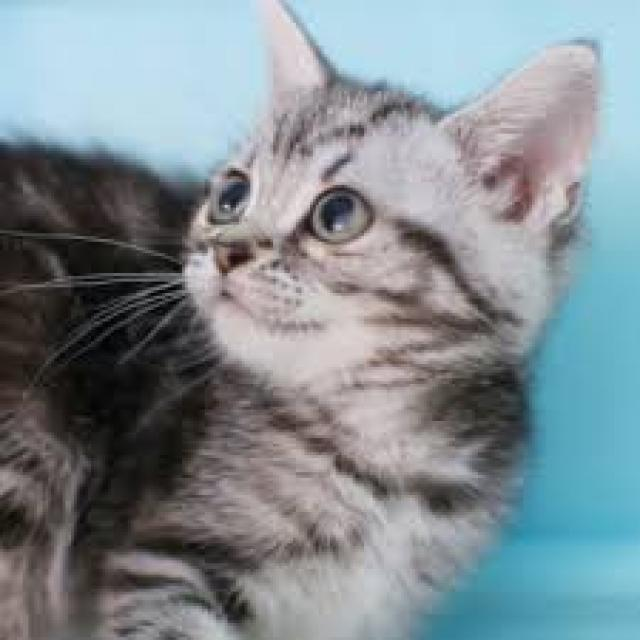cat-face: (140, 27, 628, 461)
